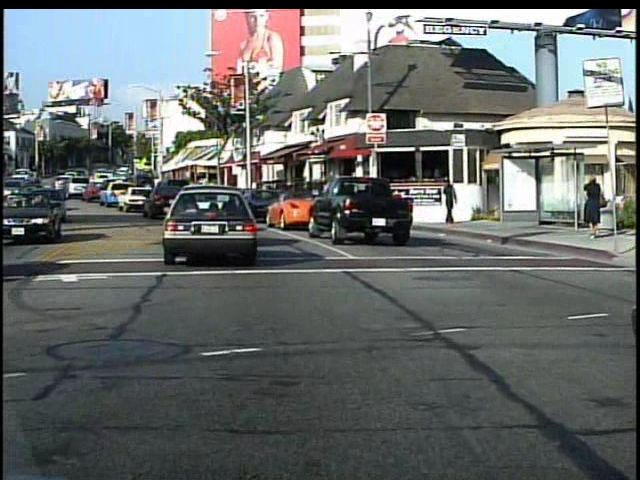person: (579, 170, 608, 242), (439, 181, 456, 232)
